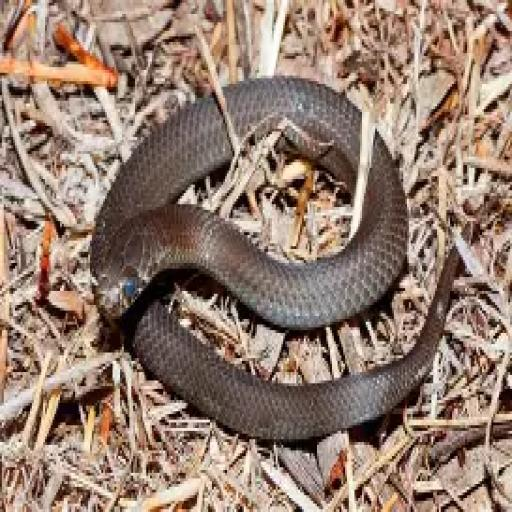snake: (91, 96, 408, 330)
